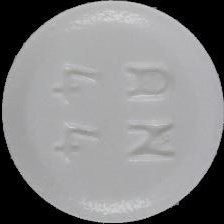65162-544: (0, 0, 224, 224)
